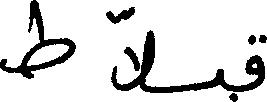X: (0, 0, 73, 83), (112, 2, 154, 97), (246, 30, 266, 95), (215, 64, 223, 92)
